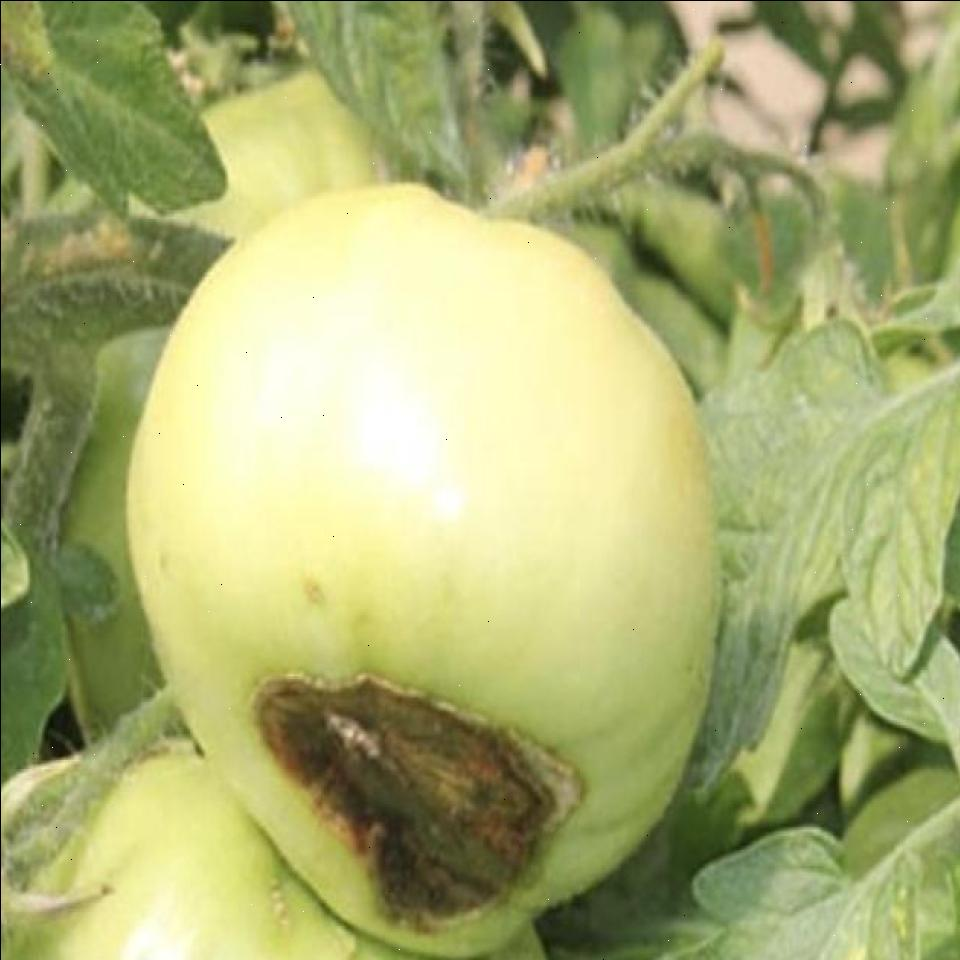Blossom_end_rot: (244, 672, 594, 926)
